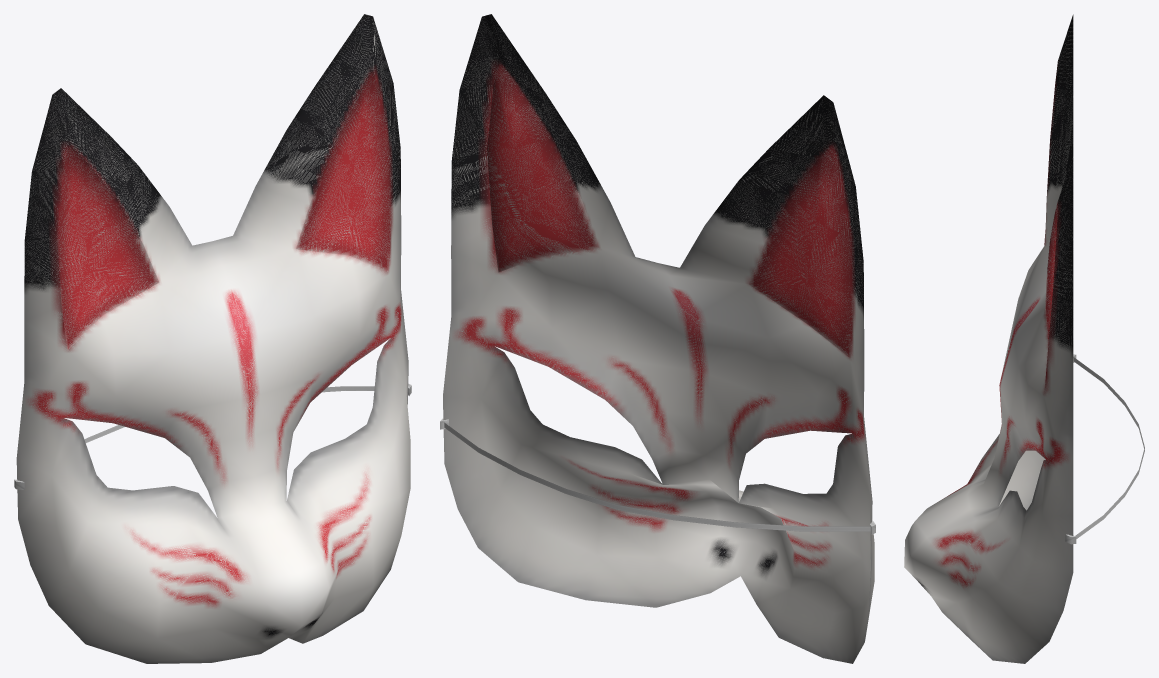
Rendered from jsf_Mask_27.fbx.
The picture shows the model from 3 angles, left to right: view 1: azimuth 30°, elevation 25°; view 2: azimuth 150°, elevation 25°; view 3: azimuth 270°, elevation 25°; orthographic projection. The views are drawn at different scales.
Visible parts, largest first — view 1: Mask_27; view 2: Mask_27, ElasticBand_27; view 3: Mask_27, ElasticBand_27.
Part boxes in pixels (box(x1,y1,x2,y2)): Mask_27: box(14, 14, 411, 663); Mask_27: box(440, 14, 875, 663); ElasticBand_27: box(444, 422, 870, 531); Mask_27: box(904, 14, 1076, 663); ElasticBand_27: box(1073, 357, 1144, 538).
Size of the model in its own units: 17.1 by 23.06 by 9.51.
